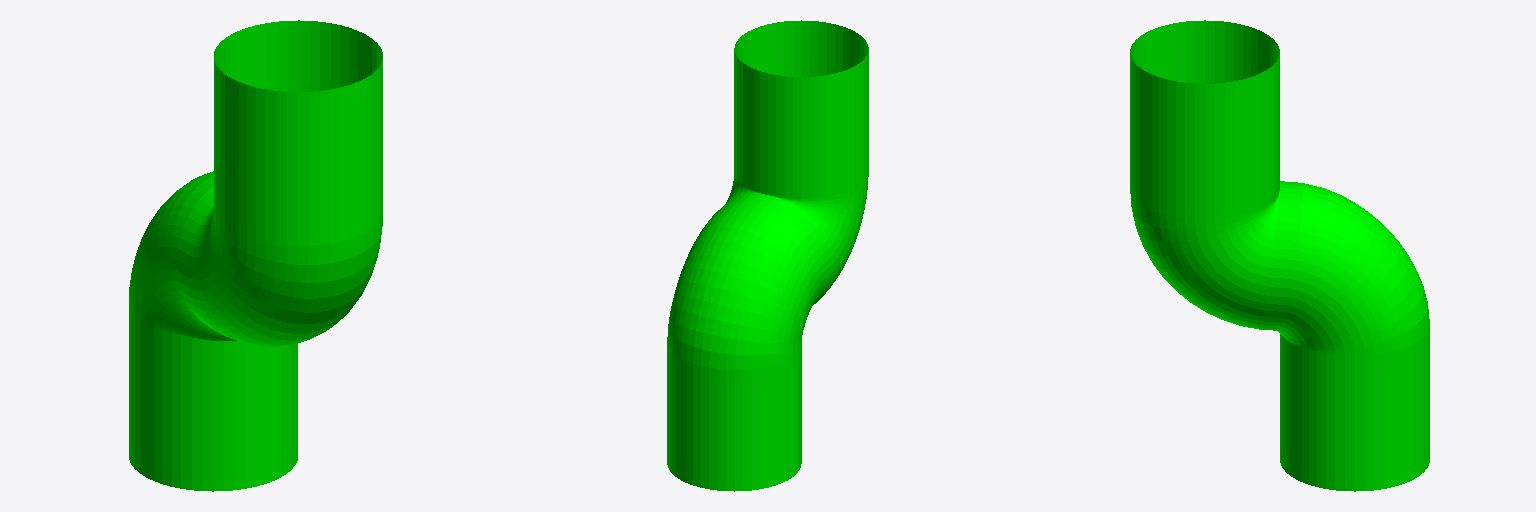
robot.urdf — cylinder:
<?xml version="0.0" ?>
<robot name="cylinder">
    <material name="green">
        <color rgba="0 1 0 0.5"/>
    </material>

    <link name="baseLink">
        <inertial>
            <origin rpy="0 0 0" xyz="0 0 0"/>
            <mass value="0.0"/>
            <inertia ixx="1" ixy="0" ixz="0" iyy="1" iyz="0" izz="1"/>
        </inertial>
        <visual>
            <origin rpy="0 0 0" xyz="0 0 0"/>
            <geometry>
                <mesh filename="meshes/complex_cylinder_1.stl" scale="0.01 0.01 0.01"/>
            </geometry>
            <material name="green"/>
        </visual>
    </link>
</robot>

--- Render facts (derived) ---
Views: 3 orthographic renders of the robot side by side, from view 1: azimuth 30°, elevation 25°; view 2: azimuth 150°, elevation 25°; view 3: azimuth 270°, elevation 25°.
Model cylinder with 1 links and 0 joints (none), rooted at baseLink, posed every joint at zero.
Links seen in each view (by area): view 1: baseLink; view 2: baseLink; view 3: baseLink.
Boxes of the visible links, box(x1,y1,x2,y2) form: baseLink: box(129, 20, 382, 491); baseLink: box(667, 20, 868, 491); baseLink: box(1130, 20, 1429, 491).
Bounding box of the posed robot: 0.02 × 0.04 × 0.06 m (x, y, z).
Meshes: 1 distinct files referenced, 1 mesh visuals loaded (1 binary STL).